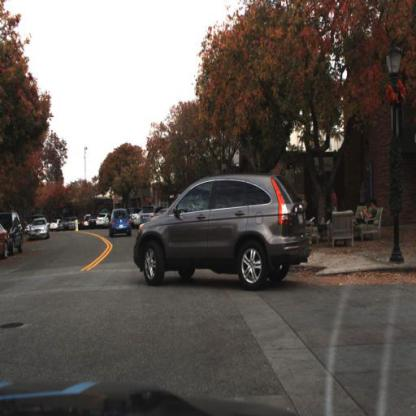car: (133, 170, 312, 292), (3, 212, 26, 257), (109, 205, 132, 238), (30, 219, 51, 242), (1, 226, 9, 264), (96, 214, 109, 230), (51, 219, 60, 233)
pedestrian: (350, 200, 378, 229), (330, 186, 340, 218), (361, 180, 370, 207)
